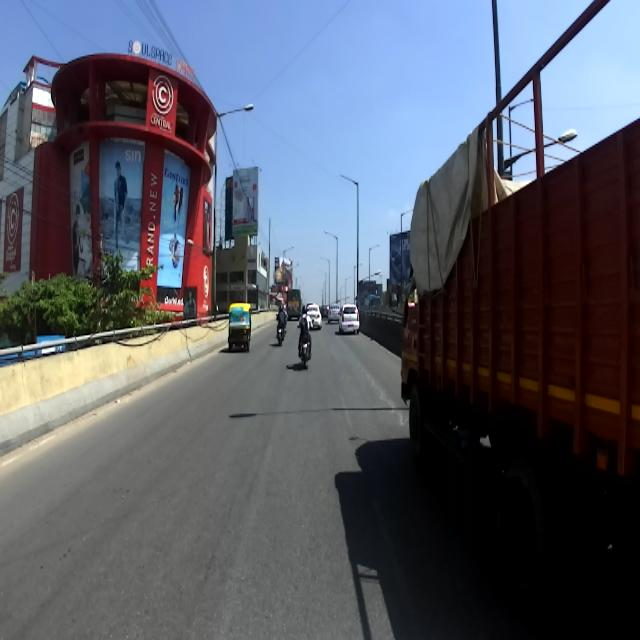auto ahead at: (221, 296, 253, 348)
truck ahead at: (396, 0, 639, 520)
